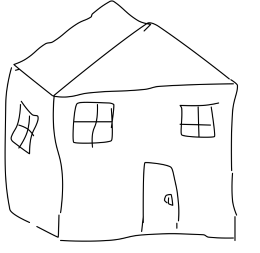big_house: (1, 1, 260, 253)
closed_window: (66, 98, 122, 152), (171, 95, 221, 144), (8, 98, 43, 161)
door: (136, 153, 192, 241)
roof: (49, 17, 242, 100)
wall: (45, 80, 242, 245)
